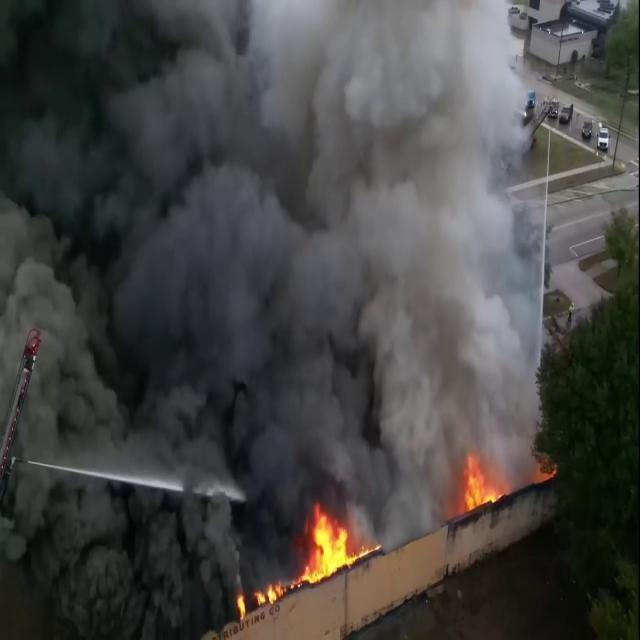Fire: (300, 504, 378, 584), (459, 452, 511, 520), (233, 570, 290, 626)
Smoke: (0, 1, 549, 503)
